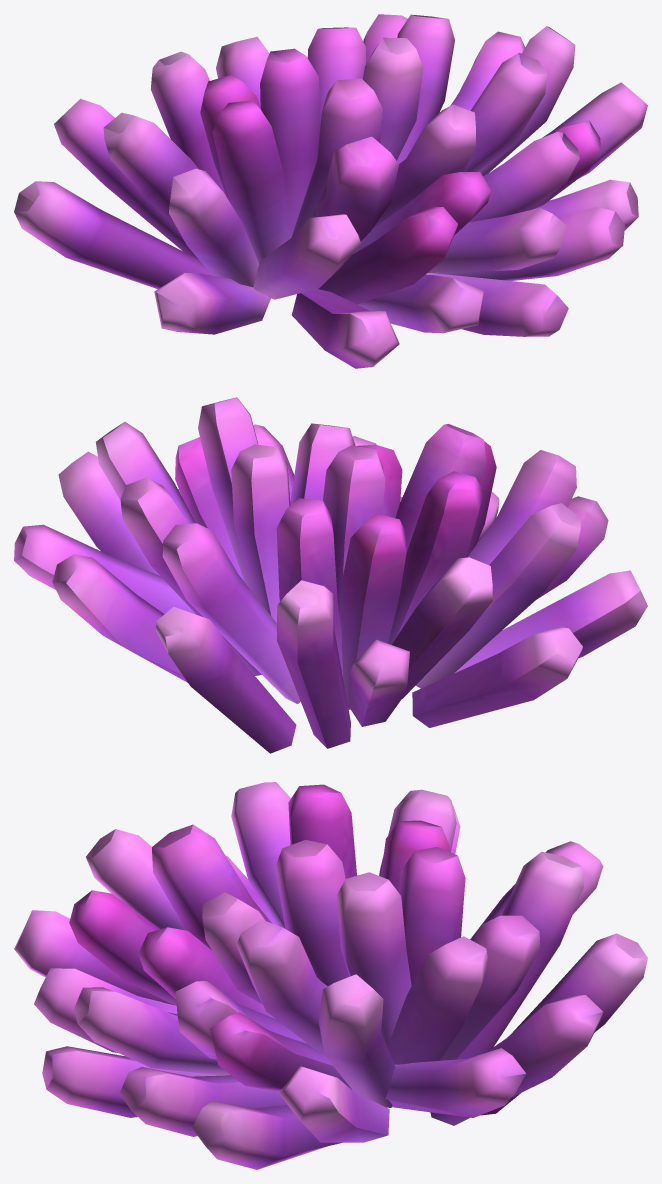
Rendered from Coral.obj.
3 renders of one model, top to bottom at view 1: azimuth 30°, elevation 25°; view 2: azimuth 150°, elevation 25°; view 3: azimuth 270°, elevation 25°, orthographic. The views are drawn at different scales.
Parts seen in each view (by area): view 1: Coral; view 2: Coral; view 3: Coral.
Boxes of the visible parts, box(x1,y1,x2,y2) form: Coral: box(14, 14, 647, 368); Coral: box(14, 397, 647, 753); Coral: box(14, 782, 647, 1169).
Bounding box in the file's own units: 5.43 × 2.23 × 4.76.
1 material, 1 textured.
